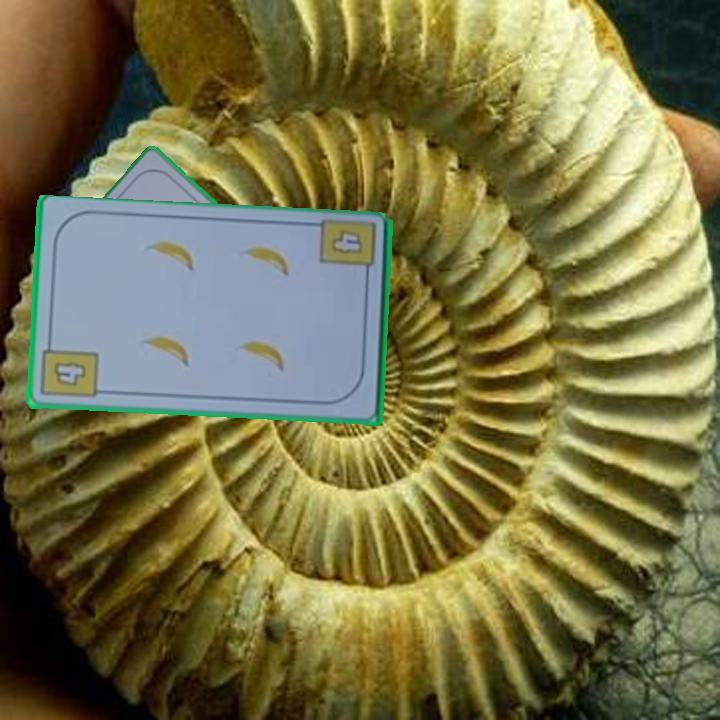4b: (38, 336, 101, 402), (327, 226, 366, 258)
